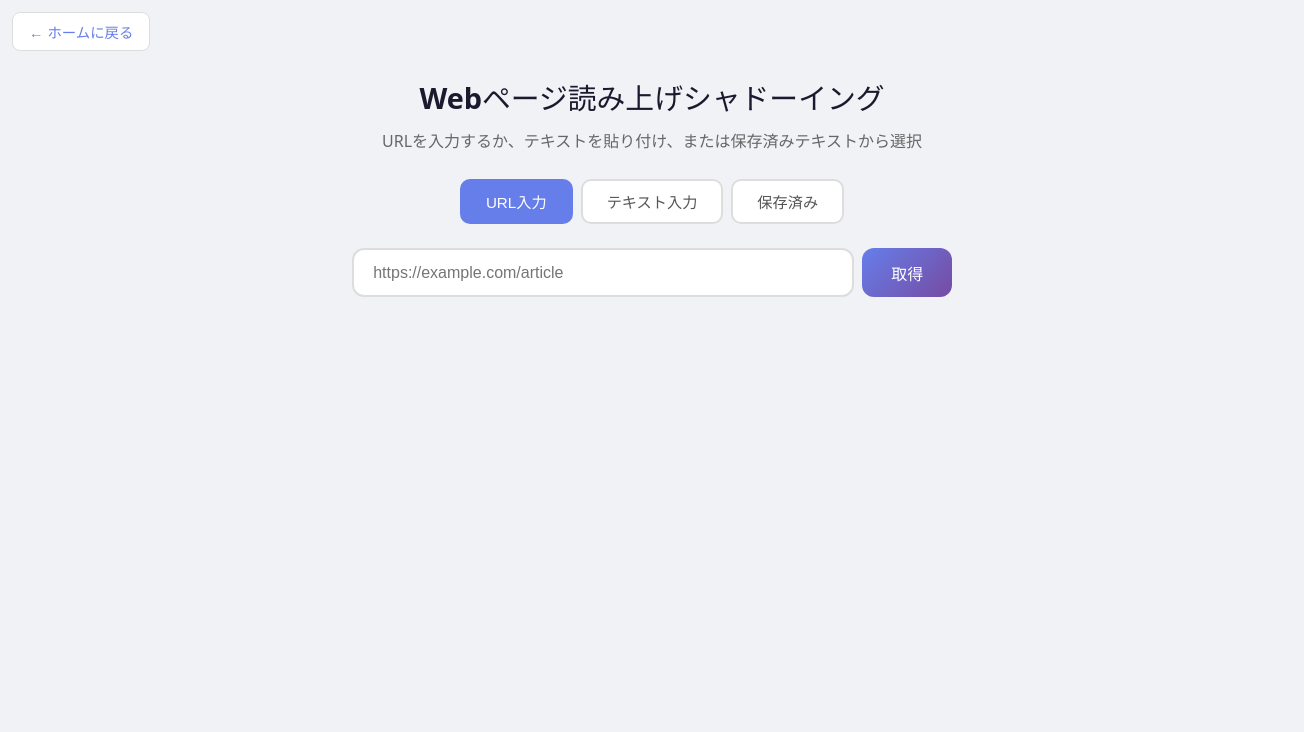
it: TextReaderPage › can reset and load new text
The image size is (1304, 732).
Click the button "テキスト入力" at (652, 201), box [581,179,723,224]
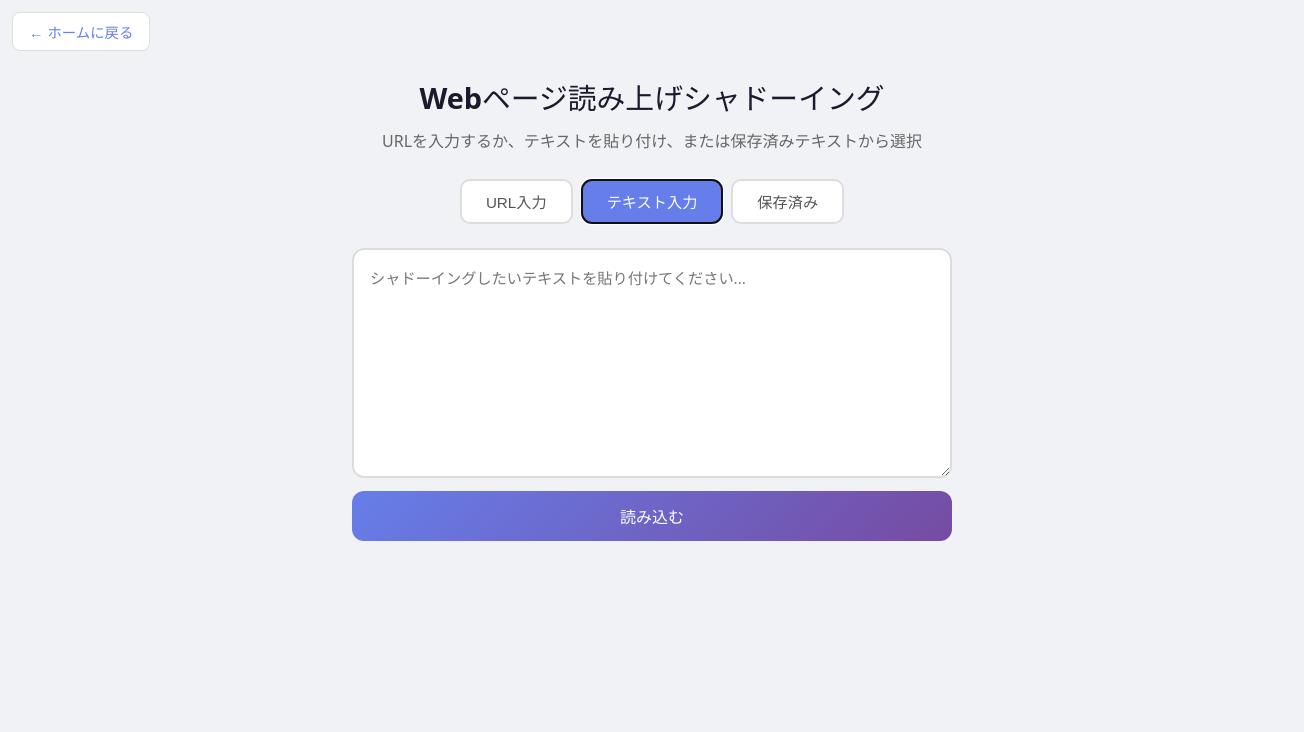
Type "Test sentence." into the text box with placeholder "シャドーイングしたいテキストを貼り付けてください..." at (652, 363), box [352,248,952,478]
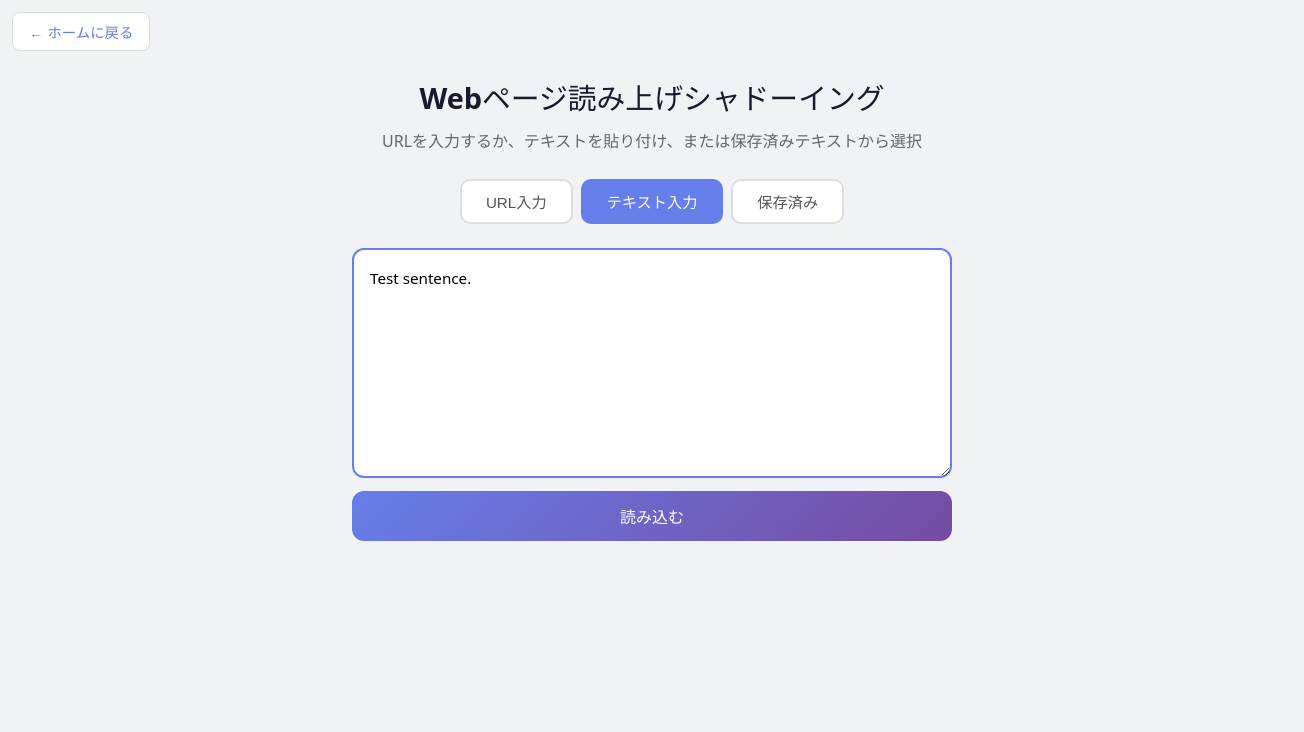
Click the button "読み込む" at (652, 516), box [352,491,952,541]
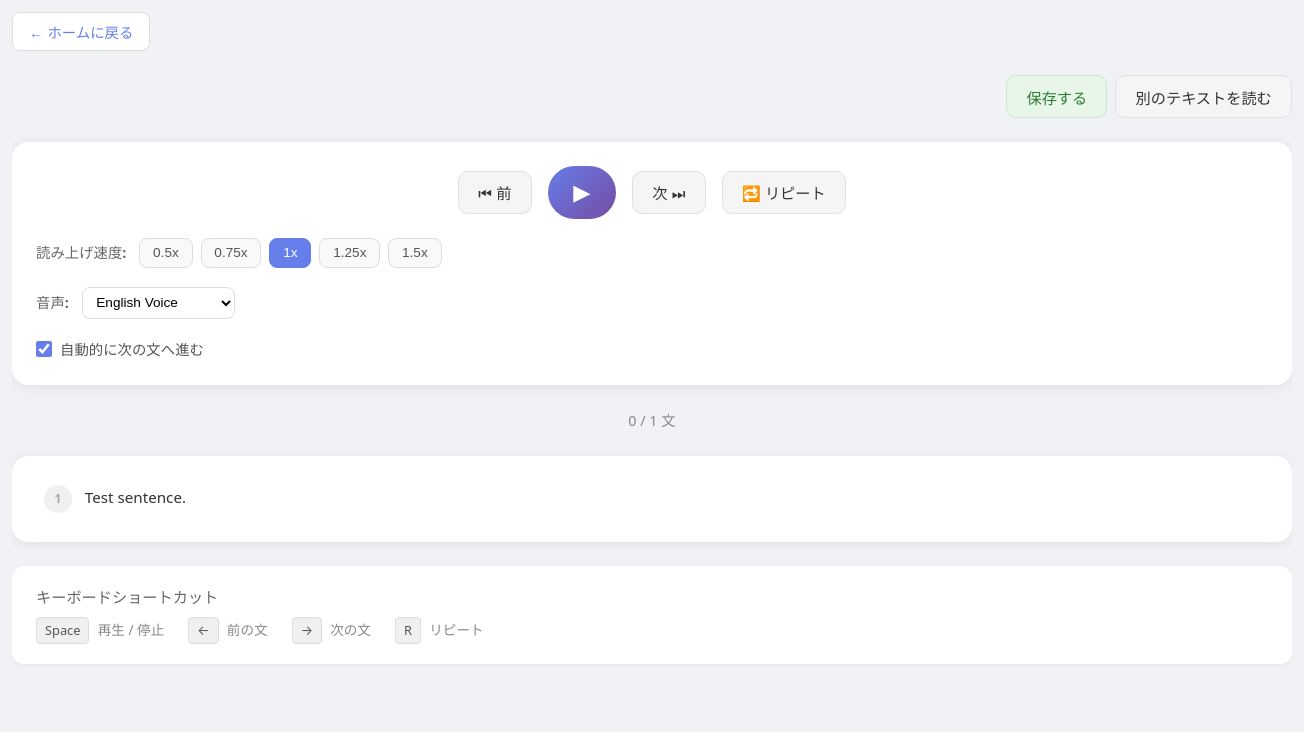
expect the text "Test sentence." is shown: met, box [85,485,186,509]
Click the button "別のテキストを読む" at (1204, 97), box [1115,75,1292,118]
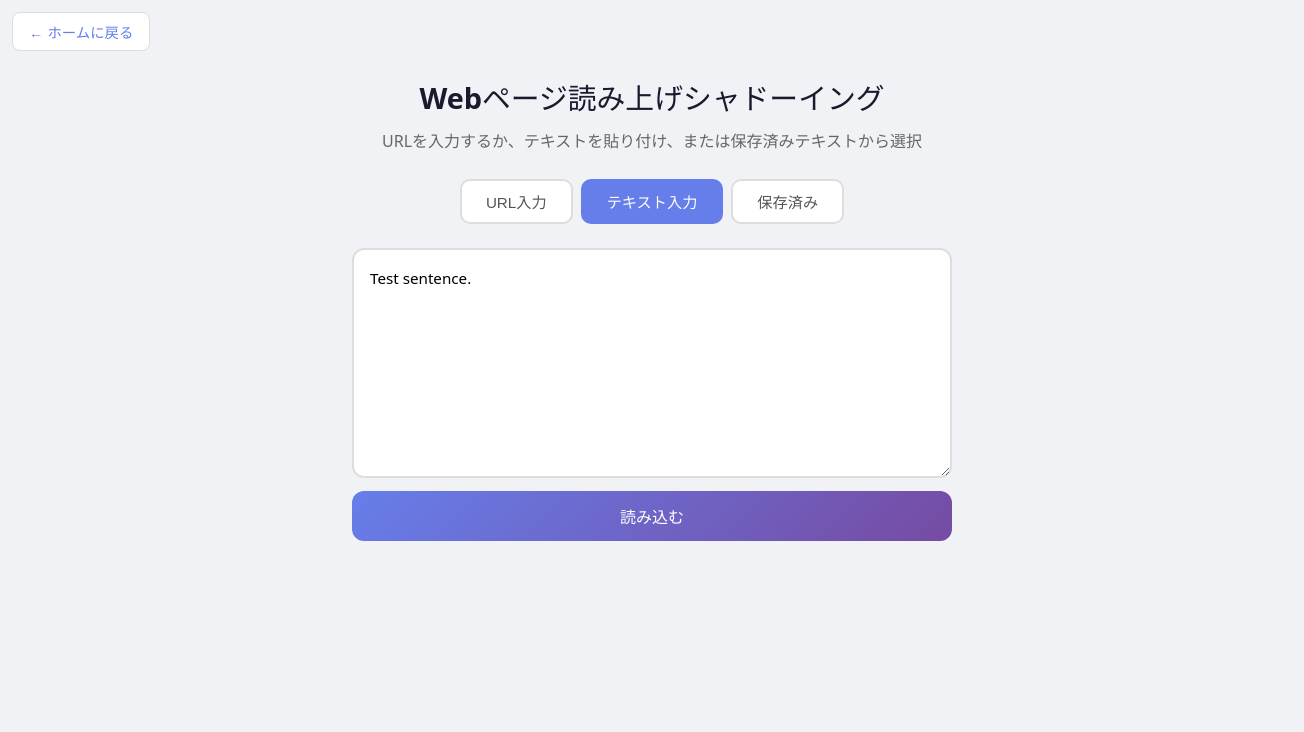
expect the heading "Webページ読み上げシャドーイング" is shown: met, box [419,78,884,117]
